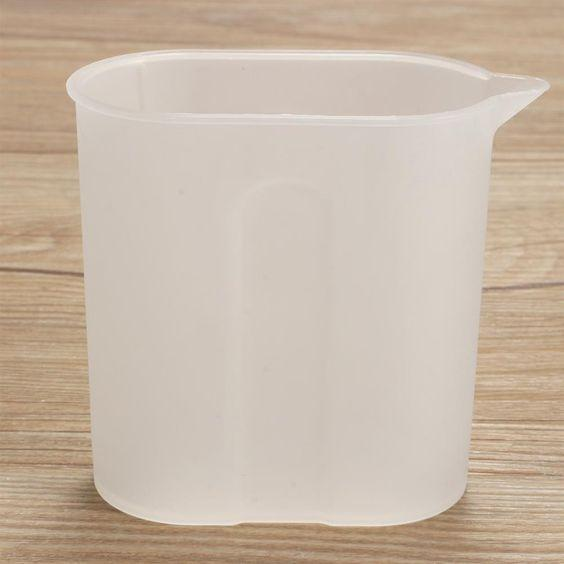PP: (27, 1, 564, 543)
